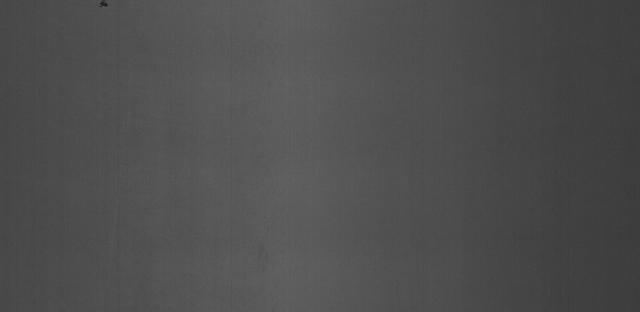inclusion: (96, 0, 114, 10)
